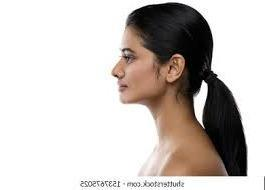Human: (97, 5, 239, 184)
